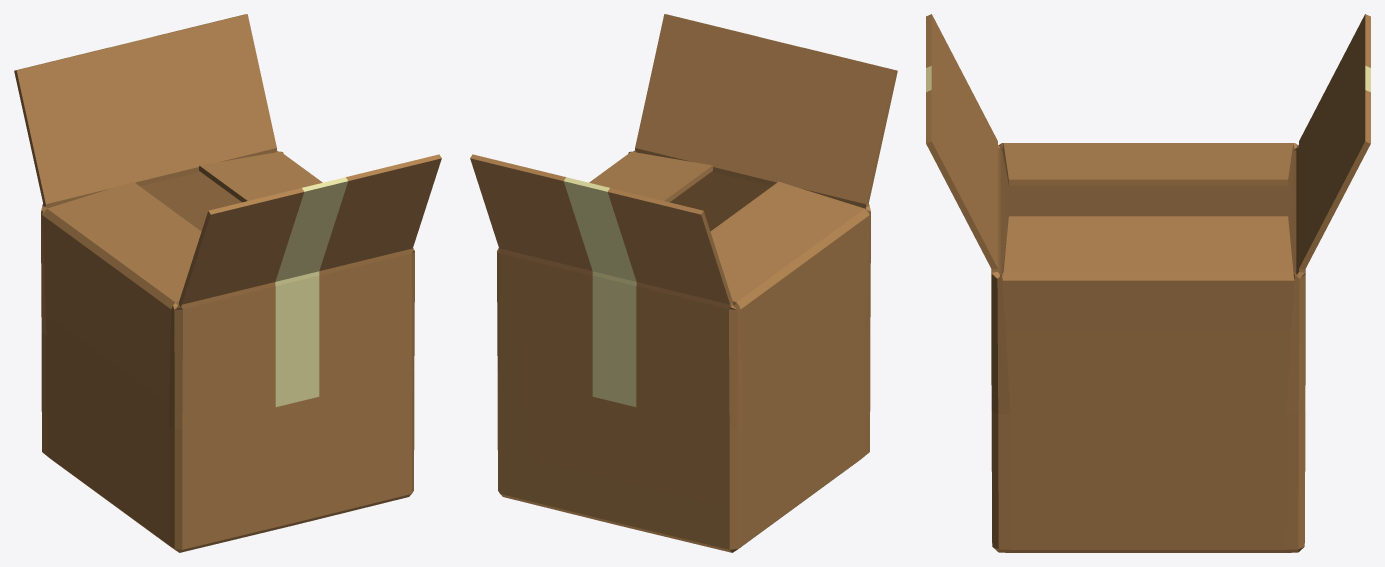
Rendered from carton1.fbx.
3 renders of one model, left to right at view 1: azimuth 30°, elevation 25°; view 2: azimuth 150°, elevation 25°; view 3: azimuth 270°, elevation 25°, orthographic. The views are drawn at different scales.
Parts seen in each view (by area): view 1: Cardboard.028_Cube.013; view 2: Cardboard.028_Cube.013; view 3: Cardboard.028_Cube.013.
Part boxes in pixels (x1,y1,x2,y2): Cardboard.028_Cube.013: (14, 14, 441, 552); Cardboard.028_Cube.013: (470, 14, 897, 552); Cardboard.028_Cube.013: (926, 14, 1370, 552).
Size of the model in its own units: 38.32 by 55.09 by 53.86.
